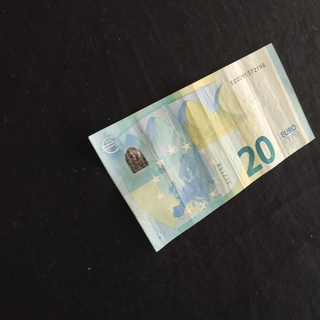20EUROBack: (88, 42, 315, 253)
